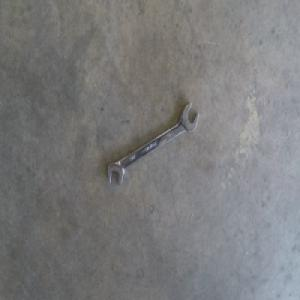Wrench: (107, 98, 198, 188)
